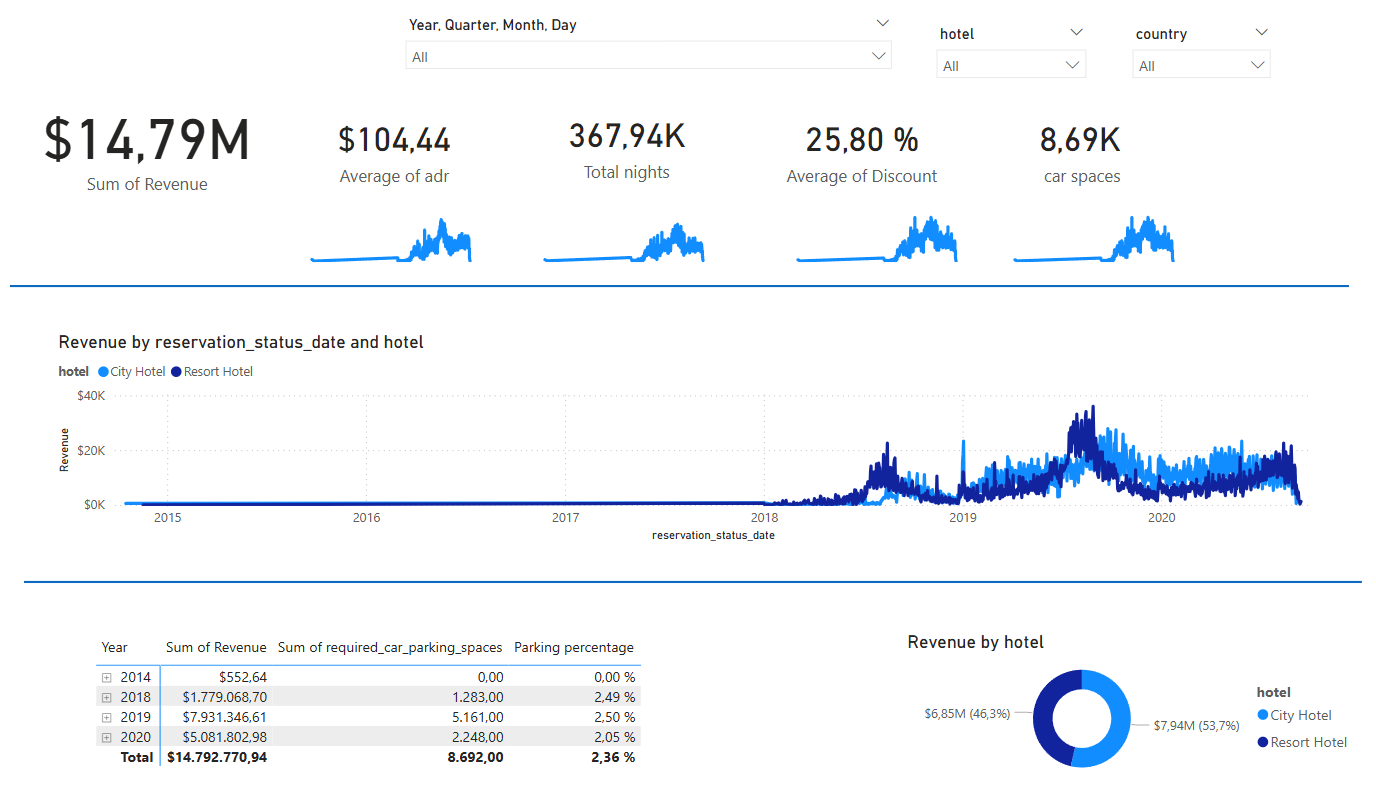

The page's visual inventory and layout, read from the dashboard file:
{"tool":"powerbi","page":{"name":"Page 1","canvas":[1307,762],"ordinal":0},"visuals":[{"type":"shape","box":[10.5,157.6,1269.2,242.7],"z":0},{"type":"shape","box":[24.2,365.6,1268.1,386.6],"z":1000},{"type":"card","fields":{"Values":["Sum(Query1.Revenue)"]},"box":[24.7,76.1,231.5,134.8],"z":2000},{"type":"card","fields":{"Values":["Avg(Query1.adr)"]},"box":[281.9,80.3,186.2,134.8],"z":3000},{"type":"card","fields":{"Values":["Query1.Total nights"]},"box":[502.1,91.6,185.2,105],"z":4000},{"type":"card","fields":{"Values":["Avg(Query1.Discount)"]},"box":[729.5,99.8,175.9,96.7],"z":5000},{"type":"lineChart","fields":{"Category":["Query1.reservation_status_date"],"Y":["Sum(Query1.Revenue)"],"Series":["Query1.hotel"]},"box":[51.5,321.5,1200.9,203.8],"z":6000},{"type":"slicer","fields":{"Values":["Query1.country"]},"box":[1063.9,26.8,151.3,76.1],"z":7000},{"type":"slicer","fields":{"Values":["Query1.hotel"]},"box":[878.7,26.8,161.5,77.2],"z":8000},{"type":"lineChart","fields":{"Category":["Query1.reservation_status_date"],"Y":["Sum(Query1.adr)"]},"box":[281.9,196.5,180.1,64.8],"z":9000},{"type":"lineChart","fields":{"Category":["Query1.reservation_status_date"],"Y":["Query1.Total nights"]},"box":[502.1,196.5,180.1,64.8],"z":10000},{"type":"lineChart","fields":{"Category":["Query1.reservation_status_date"],"Y":["Sum(Query1.Discount)"]},"box":[741.9,196.5,180.1,64.8],"z":11000},{"type":"card","fields":{"Values":["Sum(Query1.required_car_parking_spaces)"]},"box":[936.3,99.8,175.9,96.7],"z":12000},{"type":"lineChart","fields":{"Category":["Query1.reservation_status_date"],"Y":["Sum(Query1.Discount)"]},"box":[947.7,196.5,180.1,64.8],"z":13000},{"type":"donutChart","fields":{"Category":["Query1.hotel"],"Y":["Sum(Query1.Revenue)"]},"box":[856.3,605.2,436,147.1],"z":14000},{"type":"pivotTable","fields":{"Rows":["Query1.reservation_status_date.Variation.Date Hierarchy.Year","Query1.hotel"],"Values":["Sum(Query1.Revenue)","Sum(Query1.required_car_parking_spaces)","Query1.Parking percentage"]},"box":[87.2,605.2,531.6,147.1],"z":15000},{"type":"slicer","fields":{"Values":["Query1.reservation_status_date.Variation.Date Hierarchy.Year","Query1.reservation_status_date.Variation.Date Hierarchy.Quarter","Query1.reservation_status_date.Variation.Date Hierarchy.Month","Query1.reservation_status_date.Variation.Date Hierarchy.Day"]},"box":[375.1,17.9,481.2,85.1],"z":16000}]}

Visuals, with their boxes in screenshot pixels (x1, y1, x2, y2), scaled from the page's 1307x762 canvas onto the 1376x796 screenshot:
shape: (x1=11, y1=165, x2=1347, y2=418)
shape: (x1=25, y1=382, x2=1361, y2=786)
card - Sum(Query1.Revenue): (x1=26, y1=79, x2=270, y2=220)
card - Avg(Query1.adr): (x1=297, y1=84, x2=493, y2=225)
card - Query1.Total nights: (x1=529, y1=96, x2=724, y2=205)
card - Avg(Query1.Discount): (x1=768, y1=104, x2=953, y2=205)
lineChart - Query1.reservation_status_date x Sum(Query1.Revenue): (x1=54, y1=336, x2=1319, y2=549)
slicer - Query1.country: (x1=1120, y1=28, x2=1279, y2=107)
slicer - Query1.hotel: (x1=925, y1=28, x2=1095, y2=109)
lineChart - Query1.reservation_status_date x Sum(Query1.adr): (x1=297, y1=205, x2=486, y2=273)
lineChart - Query1.reservation_status_date x Query1.Total nights: (x1=529, y1=205, x2=718, y2=273)
lineChart - Query1.reservation_status_date x Sum(Query1.Discount): (x1=781, y1=205, x2=971, y2=273)
card - Sum(Query1.required_car_parking_spaces): (x1=986, y1=104, x2=1171, y2=205)
lineChart - Query1.reservation_status_date x Sum(Query1.Discount): (x1=998, y1=205, x2=1187, y2=273)
donutChart - Query1.hotel x Sum(Query1.Revenue): (x1=902, y1=632, x2=1361, y2=786)
pivotTable - Query1.reservation_status_date.Variation.Date Hierarchy.Year x Query1.hotel: (x1=92, y1=632, x2=651, y2=786)
slicer - Query1.reservation_status_date.Variation.Date Hierarchy.Year x Query1.reservation_status_date.Variation.Date Hierarchy.Quarter: (x1=395, y1=19, x2=902, y2=108)
